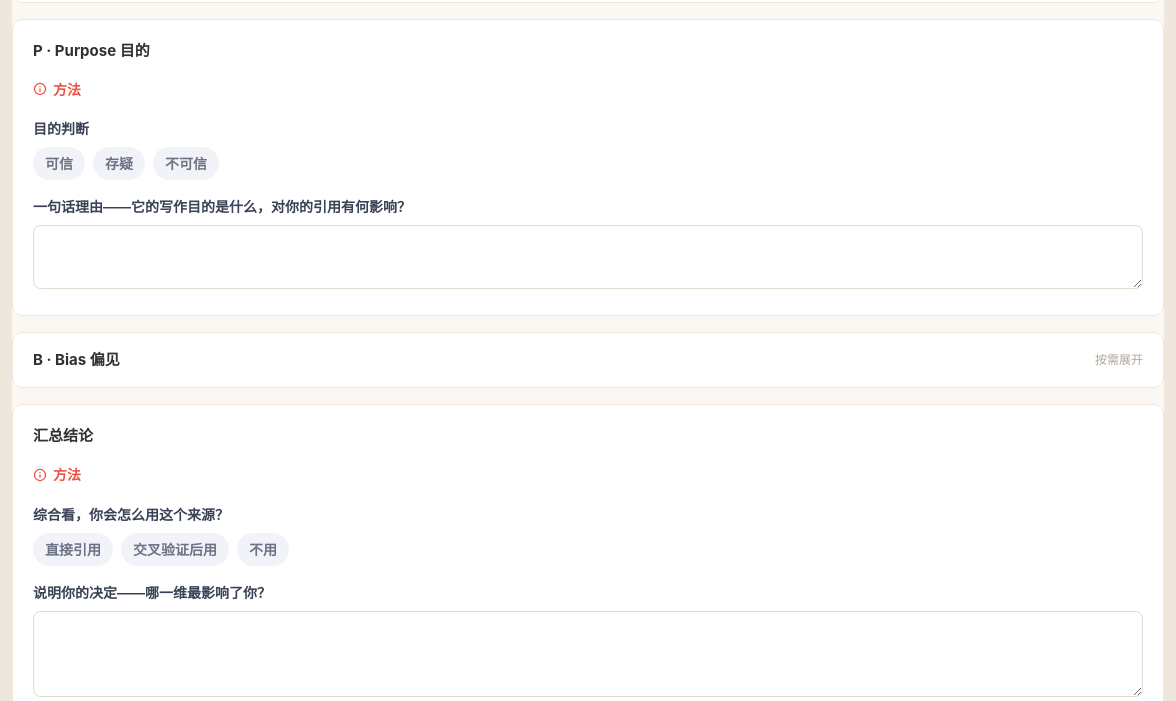
Scenario: CardRenderer (schema-driven) › keeps the on_demand Bias step collapsed until expanded, then shows its fields
This screenshot has width=1176, height=701.
(page scrolled)
Check: the text "偏见程度判断" is not shown
Click the button "B · Bias 偏见 按需展开". click: (76, 359)
box: [13,333,1163,387]
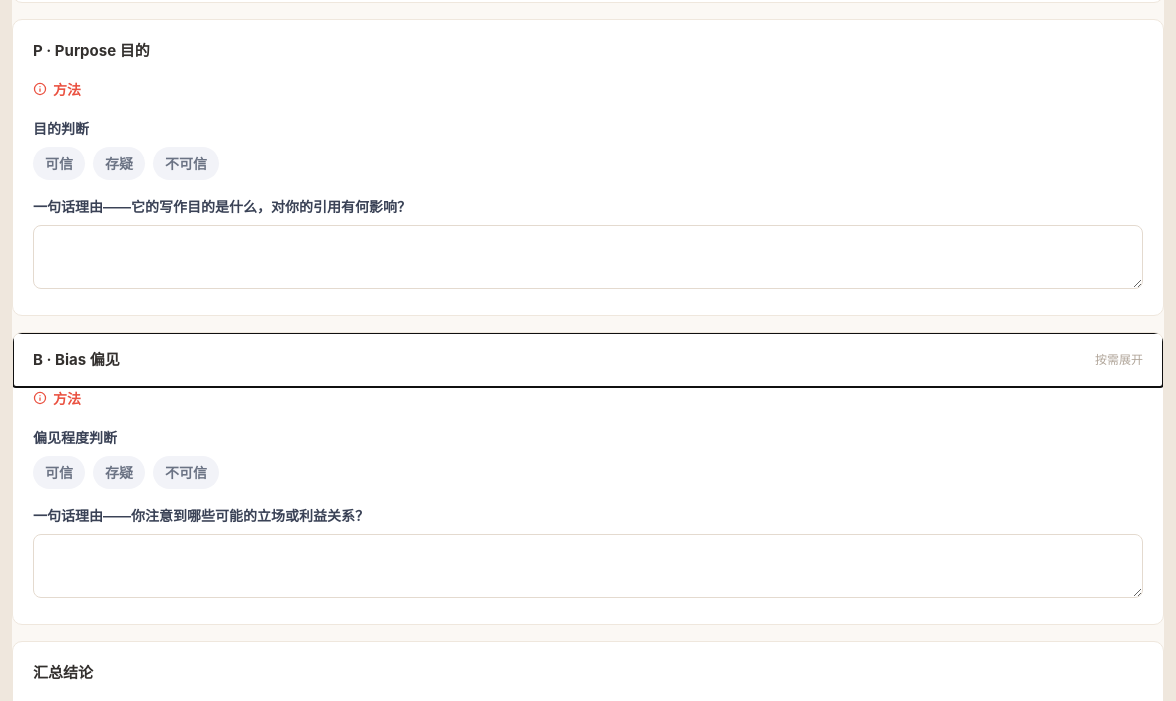
Check: the text "偏见程度判断" is shown, box [33,429,117,446]
